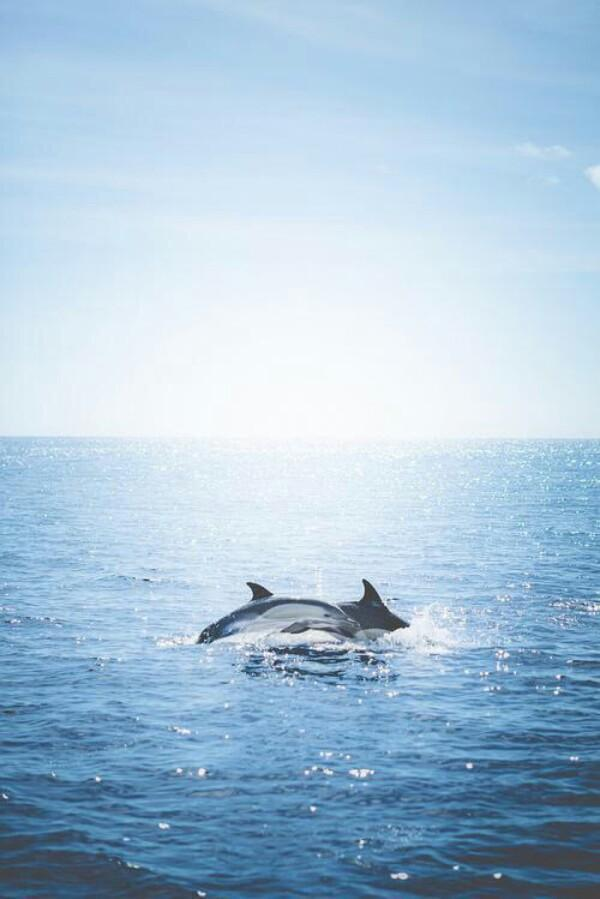fish: (191, 584, 362, 649)
